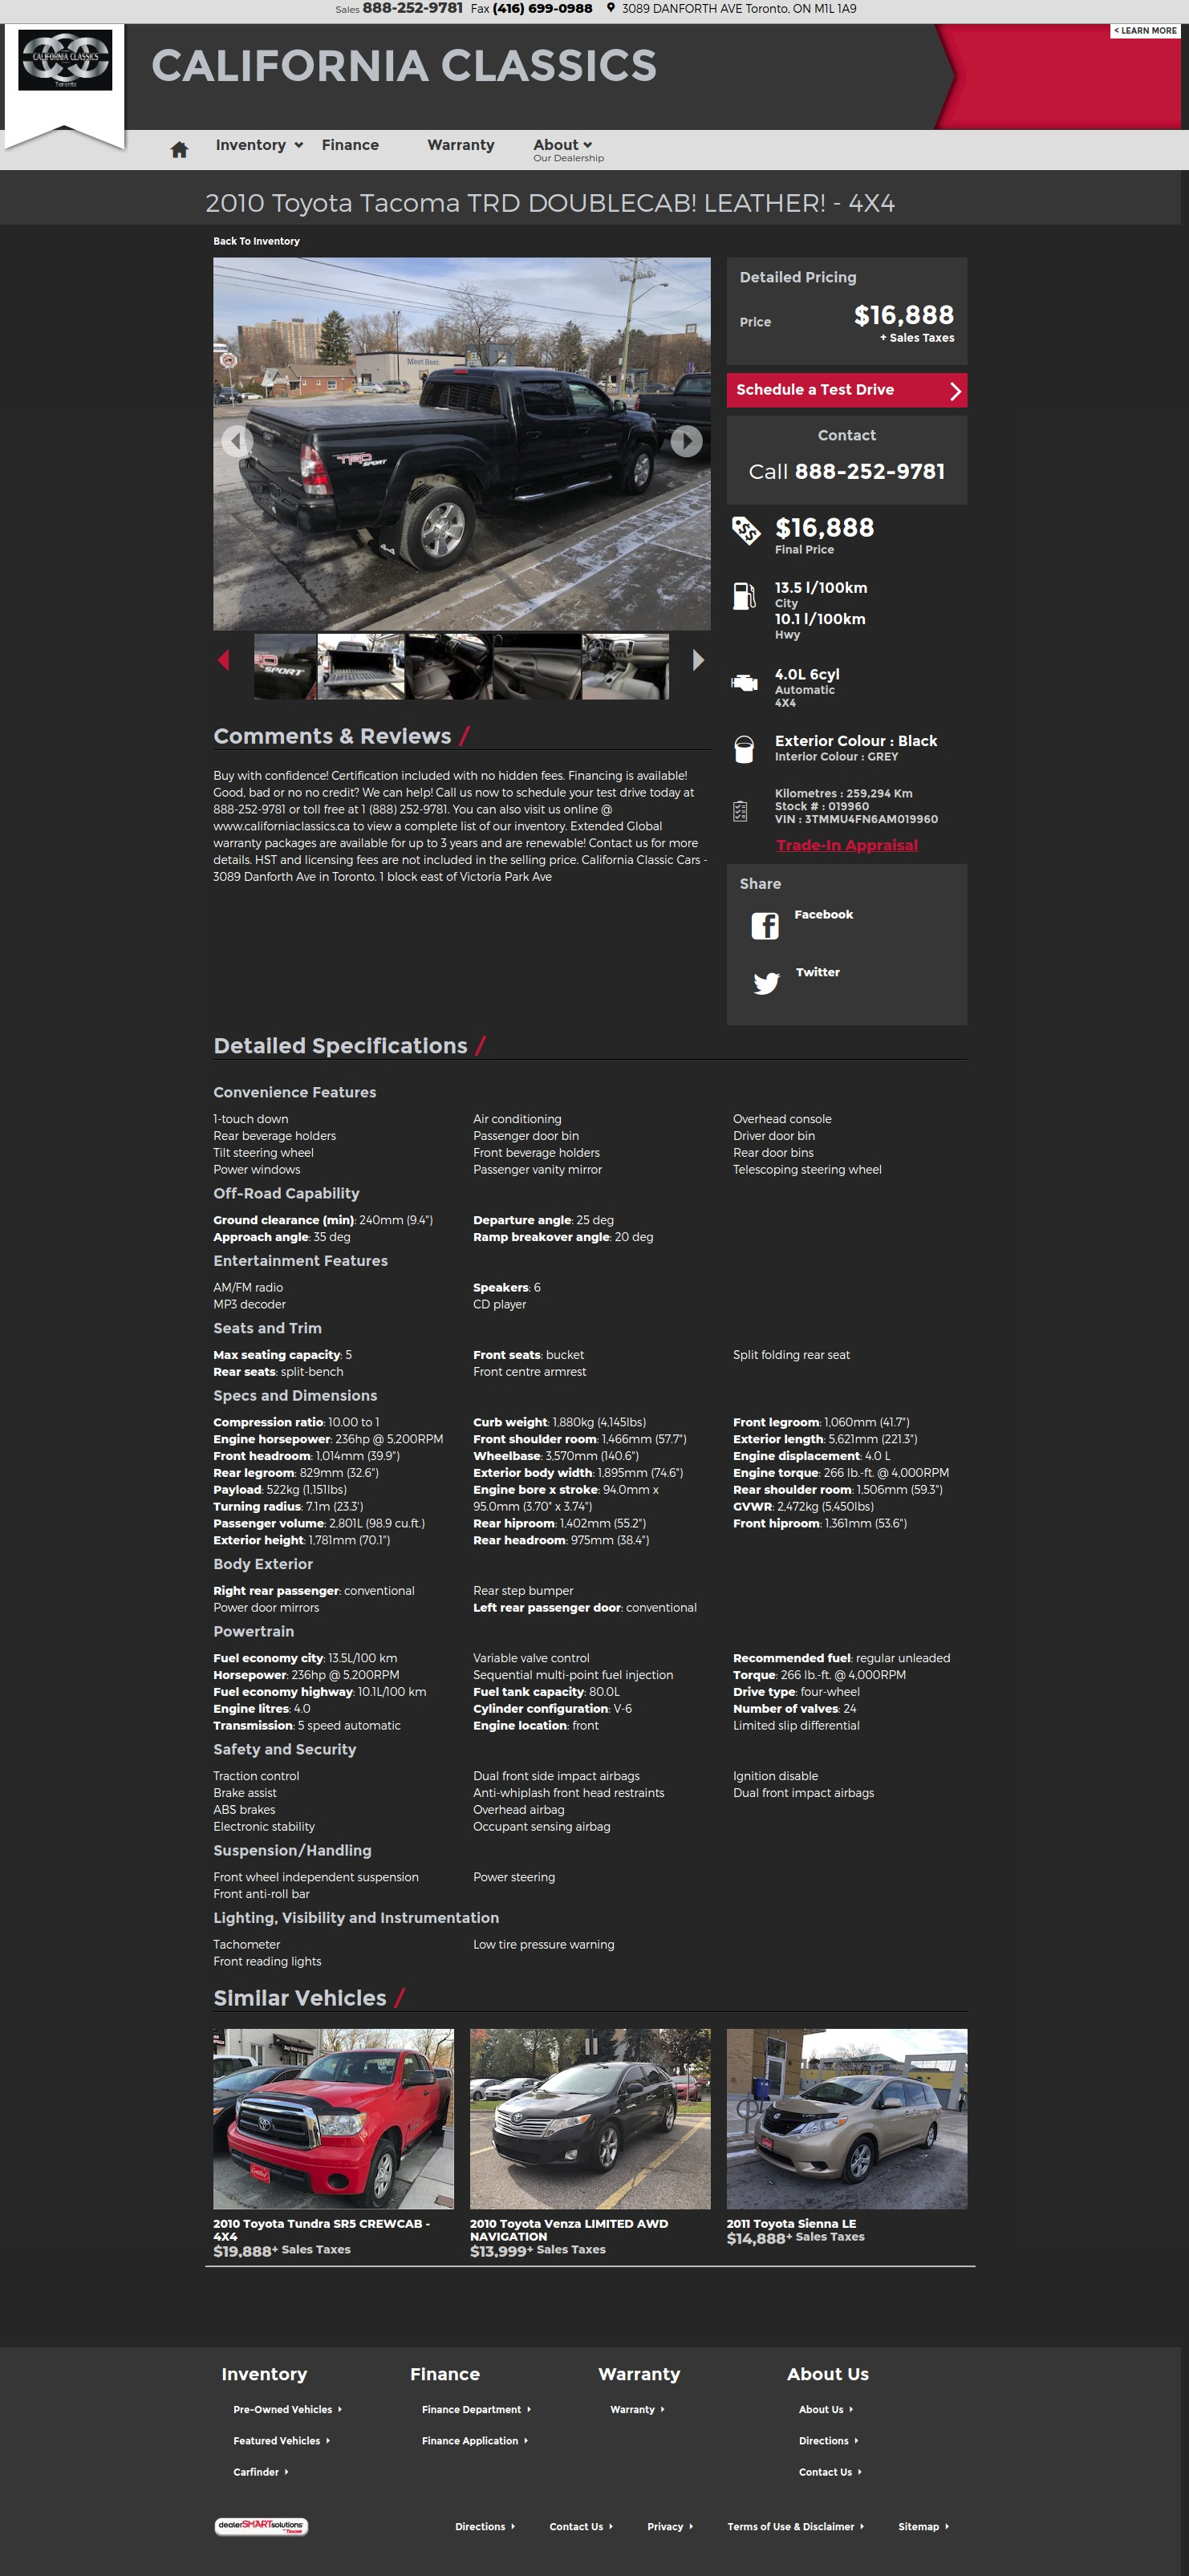car: (693, 651, 705, 672)
